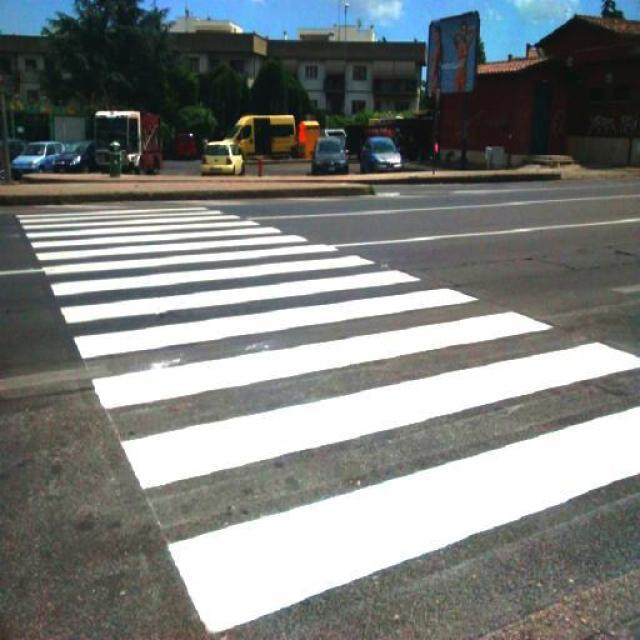crosswalk: (13, 203, 640, 634)
